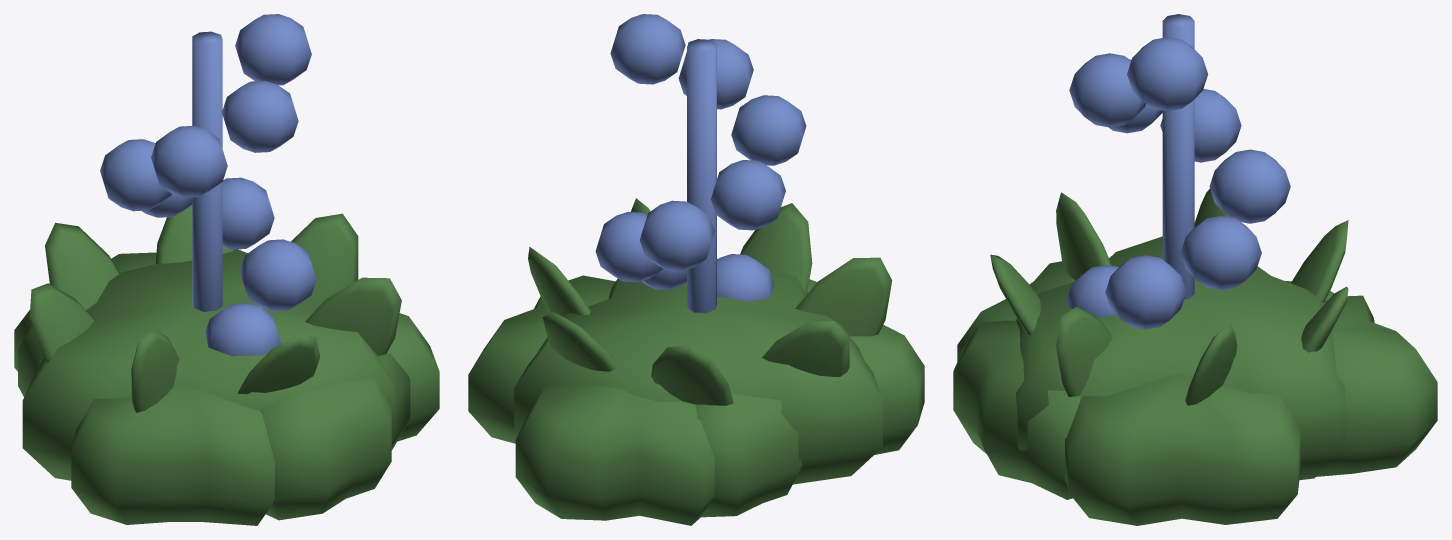
The model's file is flowers_11.glb.
3 renders of one model, left to right at view 1: azimuth 30°, elevation 25°; view 2: azimuth 150°, elevation 25°; view 3: azimuth 270°, elevation 25°, orthographic. The views are drawn at different scales.
Visible parts, largest first — view 1: Tint, Ground foliage.054, Ground foliage.057, Ground foliage.056, Cut leaf.001, Cut leaf.004, Cut leaf.002, Ground foliage.055, Cut leaf.005, Cut leaf, Cut leaf.006, Cut leaf.003 (+2 smaller); view 2: Tint, Ground foliage.054, Ground foliage.059, Ground foliage.058, Ground foliage.055, Ground foliage.057, Cut leaf.006, Cut leaf, Cut leaf.005, Cut leaf.004, Cut leaf.003, Cut leaf.002; view 3: Tint, Ground foliage.055, Ground foliage.054, Ground foliage.059, Ground foliage.056, Cut leaf.001, Cut leaf.006, Cut leaf.004, Cut leaf.002, Cut leaf, Ground foliage.057, Cut leaf.003.
Boxes of the visible parts, x1,y1,x2,y2 form: Tint: (100,14,316,356); Ground foliage.054: (22,249,394,480); Ground foliage.057: (71,386,274,525); Ground foliage.056: (259,353,410,520); Cut leaf.001: (305,277,401,355); Cut leaf.004: (45,222,119,309); Cut leaf.002: (291,213,358,302); Ground foliage.055: (318,302,439,441); Cut leaf.005: (29,283,93,362); Cut leaf: (237,334,320,394); Cut leaf.006: (131,329,179,412); Cut leaf.003: (156,205,234,263); Tint: (595,14,806,313); Ground foliage.054: (514,259,882,484); Ground foliage.059: (515,383,714,525); Ground foliage.058: (695,393,802,517); Ground foliage.055: (468,275,615,443); Ground foliage.057: (850,325,924,454); Cut leaf.006: (795,257,892,336); Cut leaf: (740,203,812,294); Cut leaf.005: (762,321,849,376); Cut leaf.004: (651,345,733,405); Cut leaf.003: (543,312,616,371); Cut leaf.002: (528,247,590,316); Tint: (1066,14,1290,329); Ground foliage.055: (1065,373,1300,525); Ground foliage.054: (1016,236,1344,480); Ground foliage.059: (1316,295,1437,476); Ground foliage.056: (953,320,1080,499); Cut leaf.001: (1056,306,1112,396); Cut leaf.006: (1056,192,1111,279); Cut leaf.004: (1291,220,1348,302); Cut leaf.002: (1185,324,1237,405); Cut leaf: (990,254,1040,335); Ground foliage.057: (957,261,1075,361); Cut leaf.003: (1301,286,1348,352).
Bounding box in the file's own units: 0.4224 × 0.45 × 0.4527.
